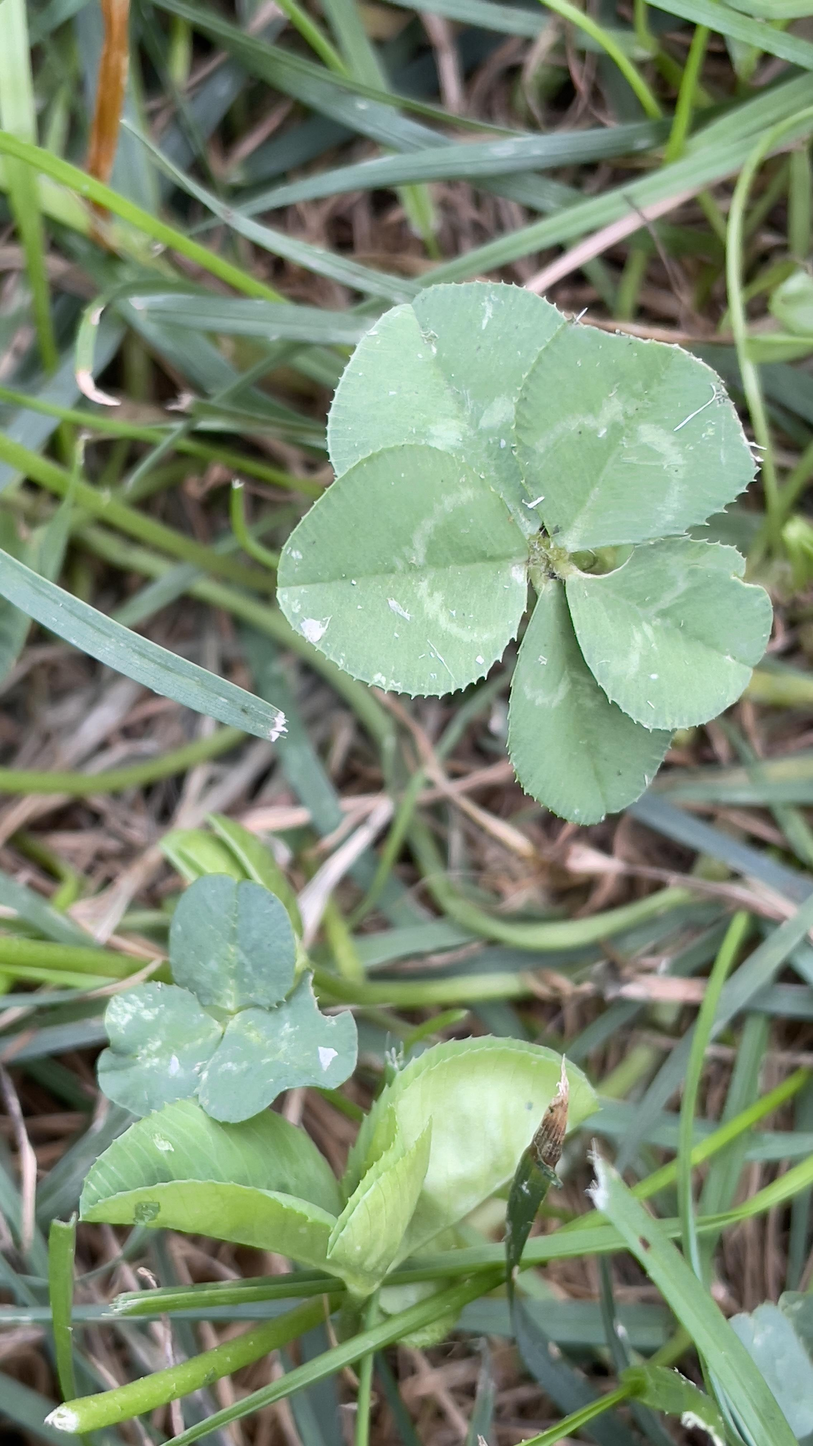5-Leaf-Clovers: (287, 274, 772, 818)
